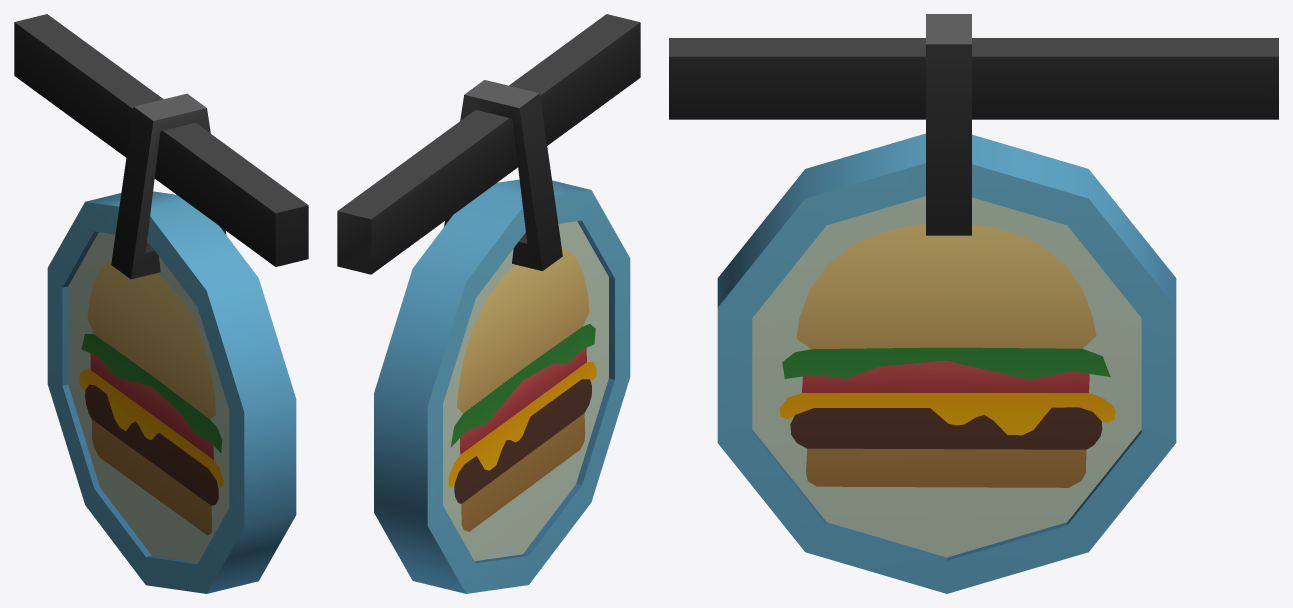
Rendered from Shop_BurgerSign_02.fbx.
3 renders of one model, left to right at view 1: azimuth 30°, elevation 25°; view 2: azimuth 150°, elevation 25°; view 3: azimuth 270°, elevation 25°, orthographic. The views are drawn at different scales.
Parts seen in each view (by area): view 1: Shop_BurgerSign_02; view 2: Shop_BurgerSign_02; view 3: Shop_BurgerSign_02.
Part boxes in pixels (left/top/right/bottom): Shop_BurgerSign_02: left=14, top=14, right=308, bottom=593; Shop_BurgerSign_02: left=337, top=14, right=640, bottom=593; Shop_BurgerSign_02: left=669, top=14, right=1278, bottom=593.
Bounding box in the file's own units: 33.94 × 155 × 156.
Materials: 2 (2 with a texture image).
